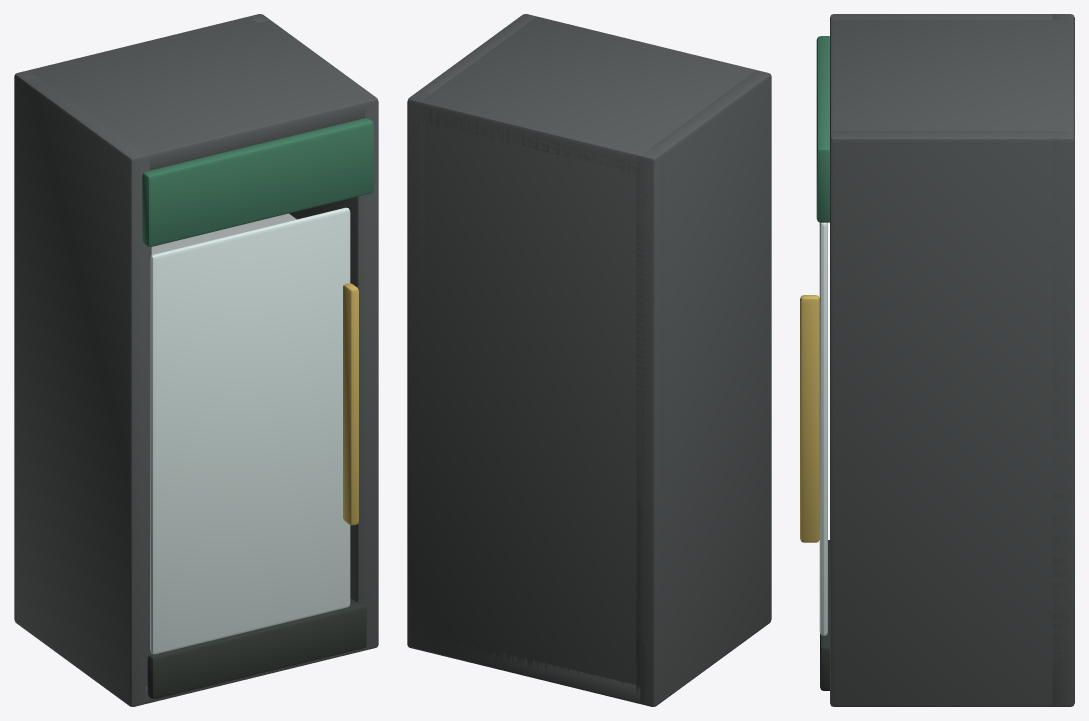
The model's file is drinks_fridge.glb.
The picture shows the model from 3 angles, left to right: view 1: azimuth 30°, elevation 25°; view 2: azimuth 150°, elevation 25°; view 3: azimuth 270°, elevation 25°; orthographic projection. The views are drawn at different scales.
Visible parts, largest first — view 1: drinks_fridge; view 2: drinks_fridge; view 3: drinks_fridge.
Part boxes in pixels (bbox=[...]): drinks_fridge: bbox=[14, 14, 378, 706]; drinks_fridge: bbox=[407, 14, 771, 706]; drinks_fridge: bbox=[800, 14, 1074, 706].
Bounding box in the file's own units: 0.9 × 1.9 × 0.83.
